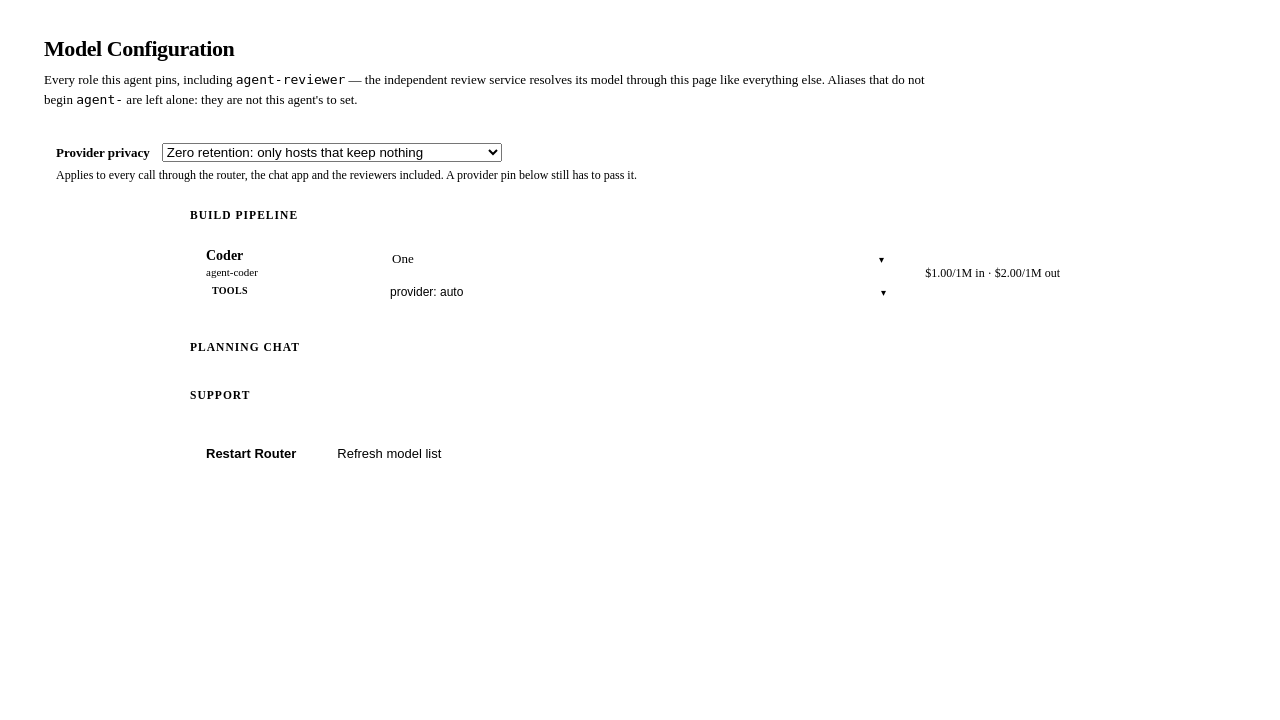
restarting the router › says the router came back, and how long it took
The width and height of the screenshot is (1280, 720).
Expected: the text "agent-coder" is shown, [206,266,258,278]
Click the button "Restart Router": (251, 454) [190,437,312,470]
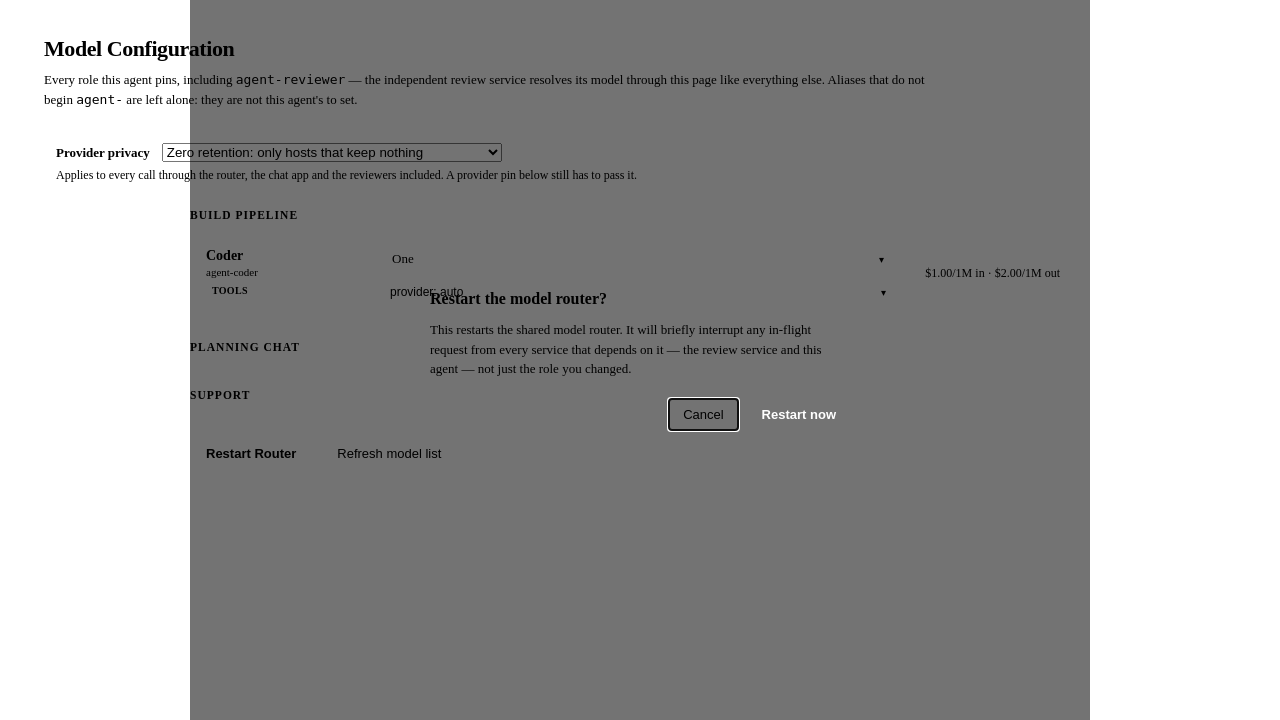
Click the button "Restart now": (799, 414) [748,399,850,430]
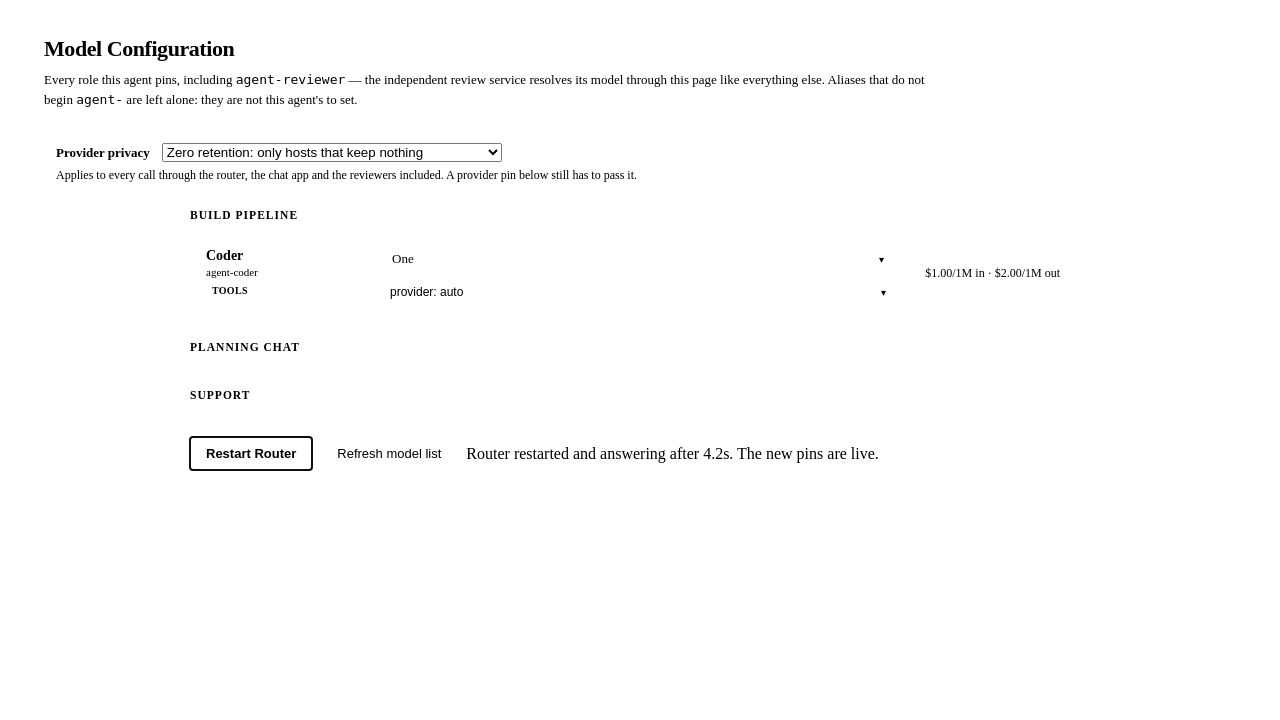
Now the dialog is gone
Now the message shows "Router restarted and answering after 4.2s", box [466,444,879,462]
